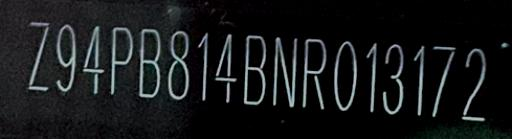letter: (458, 43, 490, 122), (160, 27, 192, 100), (297, 35, 327, 110), (327, 36, 357, 111), (426, 42, 456, 117), (267, 36, 299, 105), (20, 20, 50, 93), (236, 31, 266, 104), (104, 25, 134, 96), (134, 24, 162, 99), (378, 41, 406, 114), (210, 31, 238, 102), (50, 23, 78, 92), (78, 24, 104, 97), (358, 36, 378, 113), (194, 30, 212, 103), (408, 40, 424, 117)
